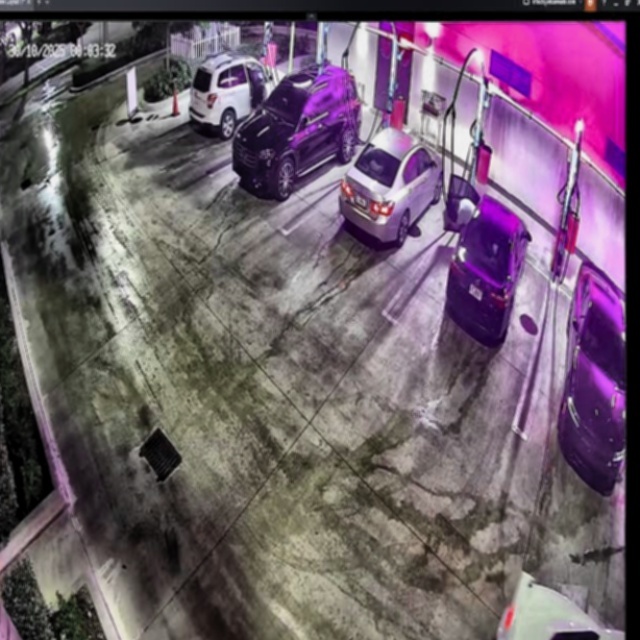Car: (233, 67, 360, 198), (444, 174, 532, 340), (340, 126, 443, 247)
